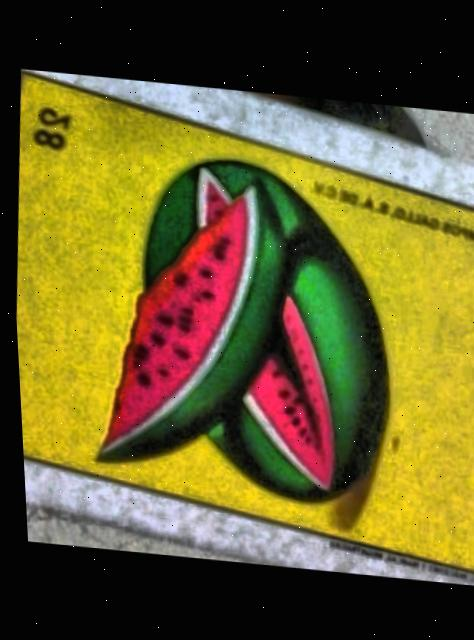La Sandia: (13, 74, 474, 567)
